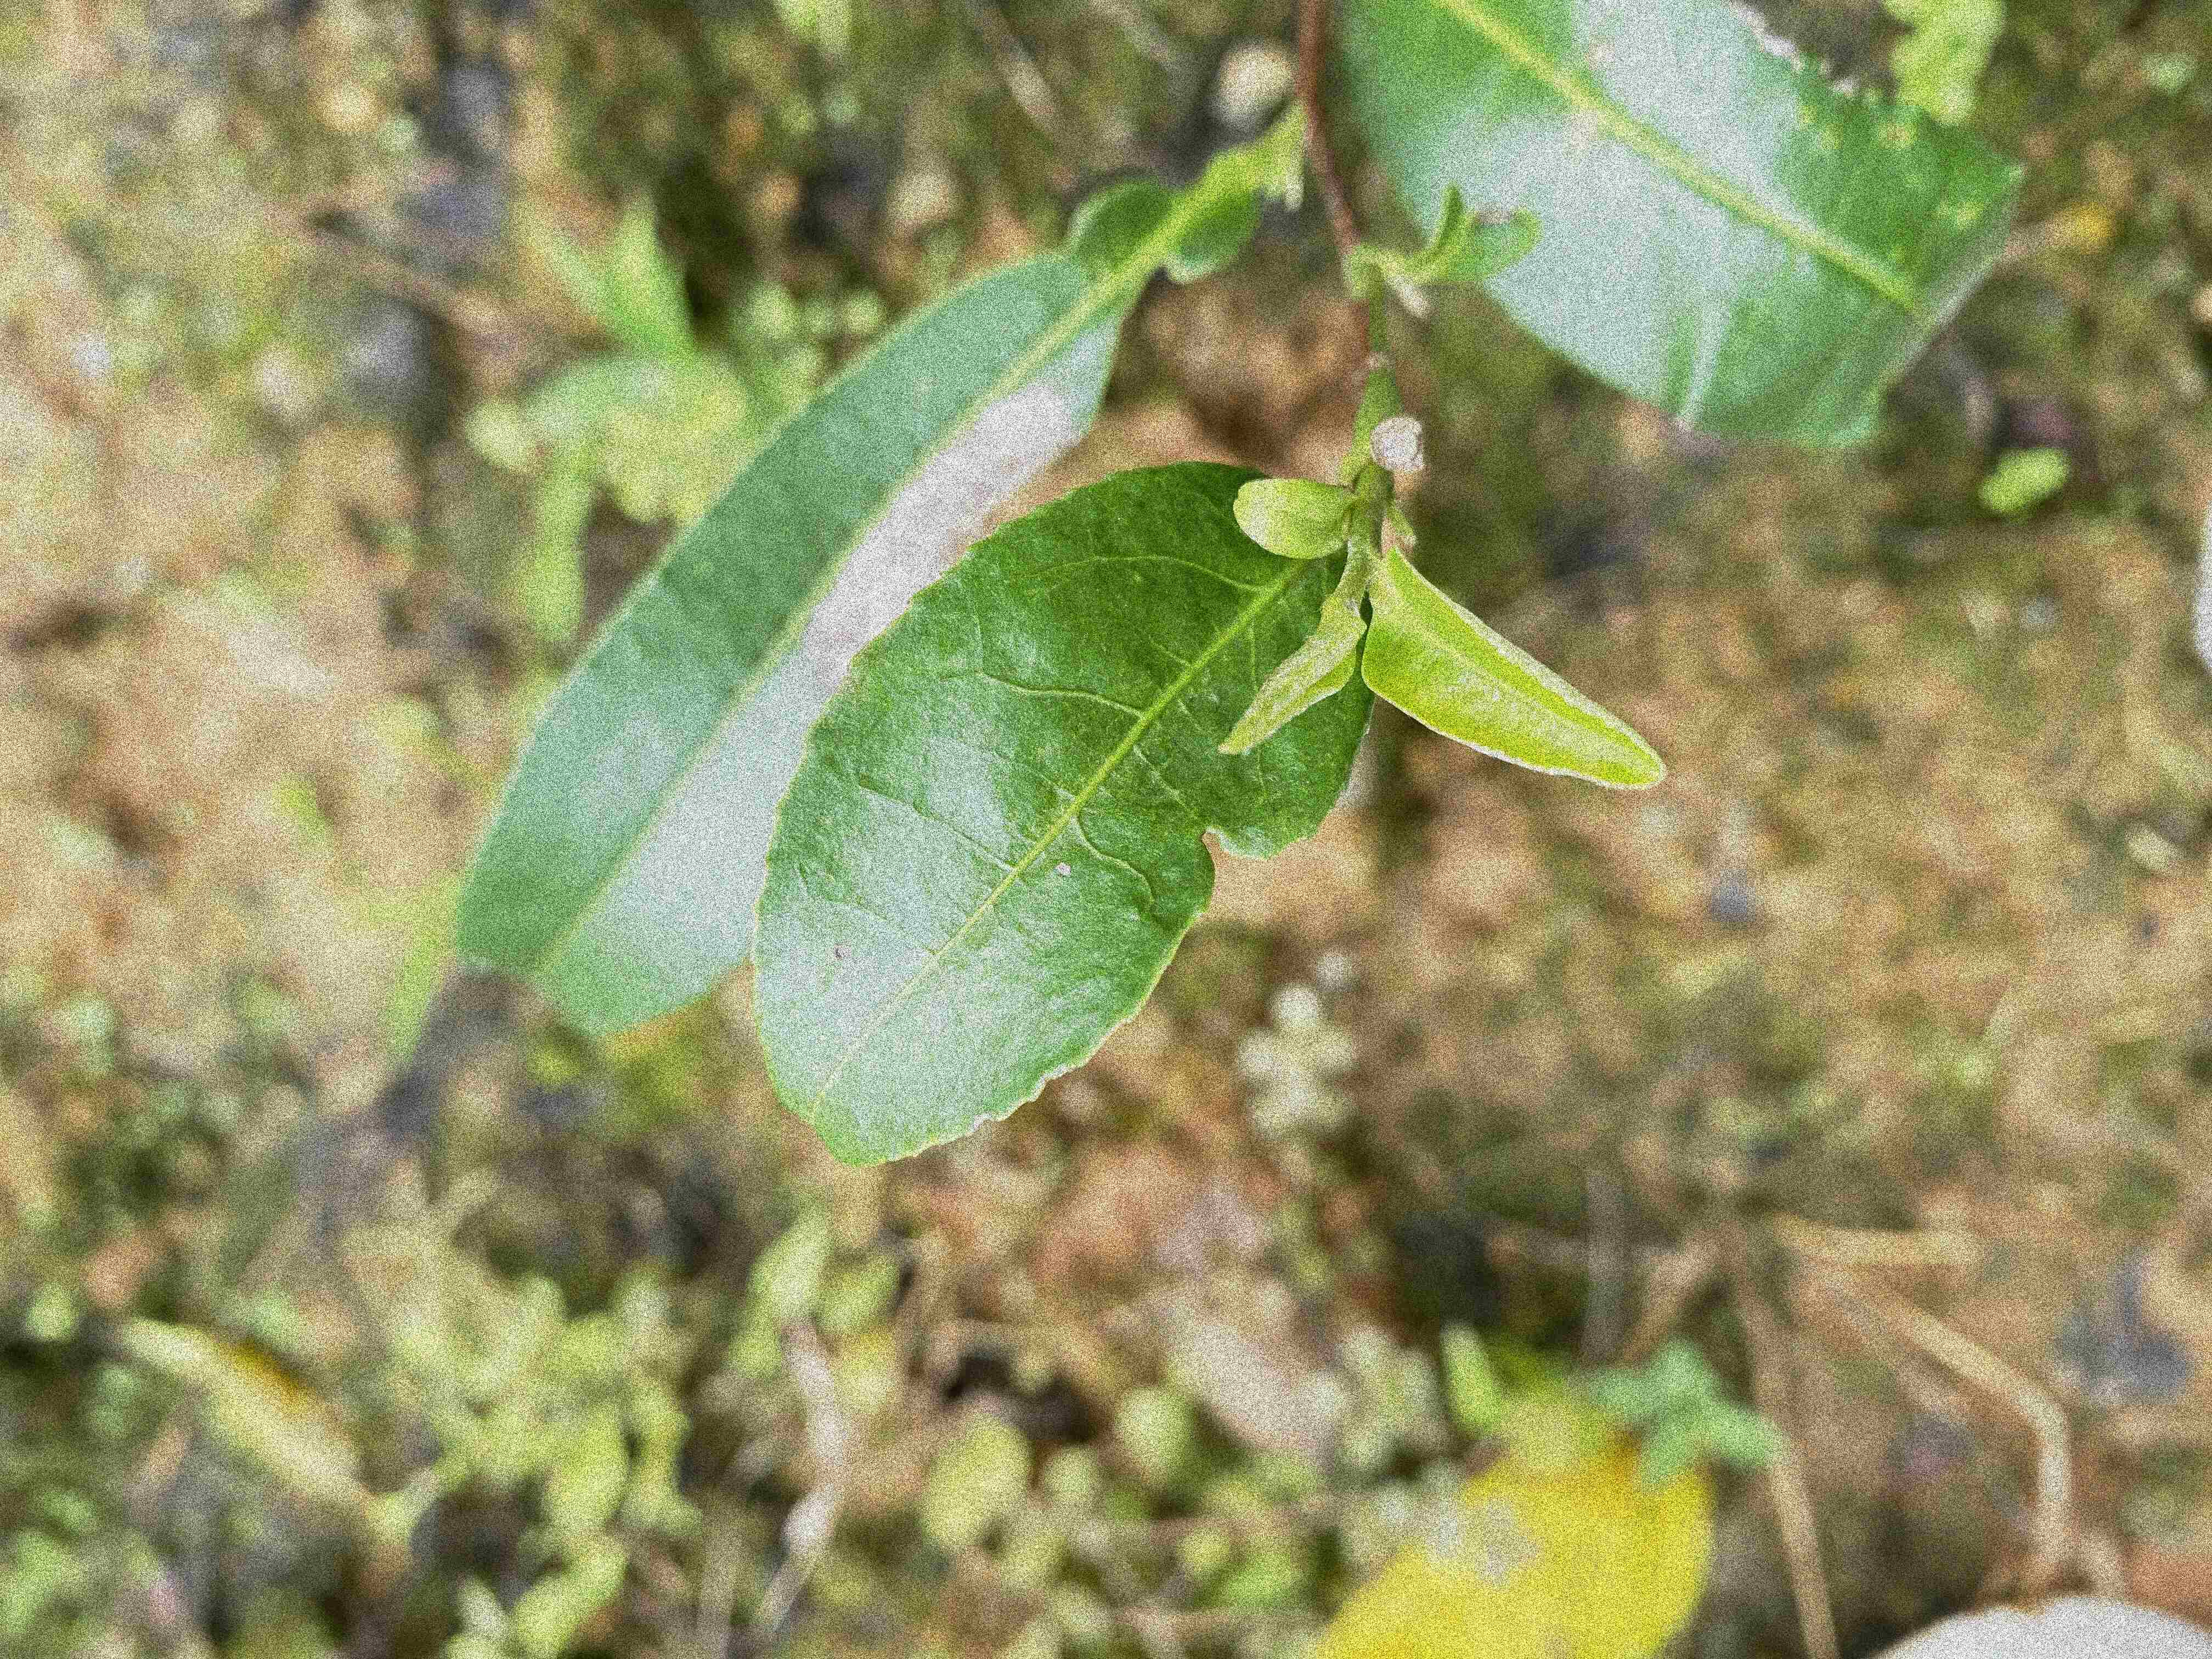healthy: (1360, 544, 1669, 788)
tanju_high: (460, 249, 1122, 1042)
